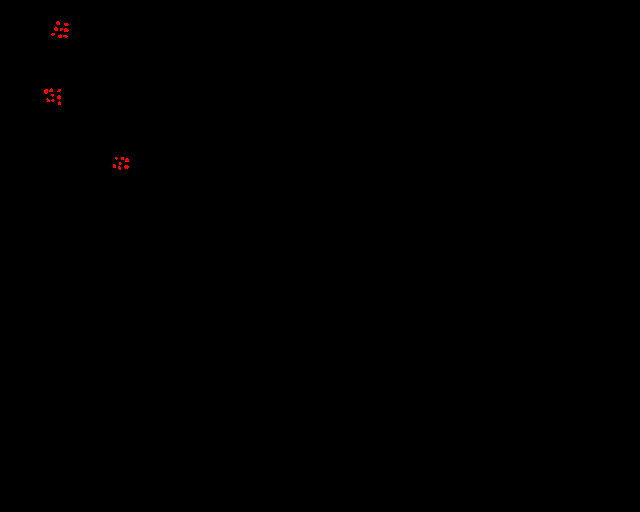Target: (64, 28, 69, 32), (44, 89, 48, 94), (57, 95, 61, 100), (124, 165, 129, 169), (56, 21, 60, 25), (54, 27, 58, 31), (58, 34, 62, 38), (49, 88, 53, 92), (46, 98, 50, 102), (125, 158, 129, 162), (64, 23, 69, 26), (63, 35, 68, 38), (51, 33, 55, 36), (57, 89, 61, 92), (51, 99, 55, 102), (58, 101, 61, 105), (113, 164, 116, 168), (118, 166, 121, 170), (60, 28, 63, 31), (51, 94, 54, 97), (115, 157, 118, 160), (121, 157, 124, 160), (119, 162, 122, 165)
